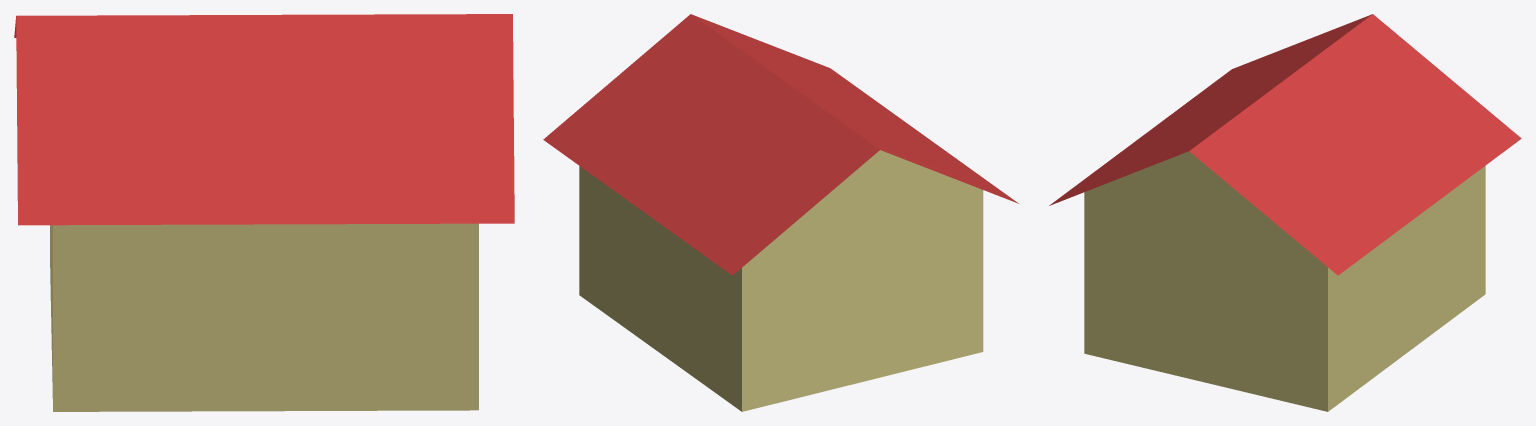
3 views of the same model, side by side, from view 1: azimuth 30°, elevation 25°; view 2: azimuth 150°, elevation 25°; view 3: azimuth 270°, elevation 25° (orthographic). The views are drawn at different scales.
Visible parts, largest first — view 1: group_3, group_5, group_4; view 2: group_5, group_3, group_4; view 3: group_5, group_3, group_4.
Part boxes in pixels (x1,y1,x2,y2): group_3: (14, 14, 514, 225); group_5: (50, 223, 478, 411); group_4: (16, 15, 514, 225); group_5: (579, 150, 983, 411); group_3: (543, 14, 981, 245); group_4: (544, 14, 1018, 275); group_5: (1084, 151, 1485, 411); group_3: (1049, 14, 1484, 275); group_4: (1050, 14, 1521, 274).
Size of the model in its own units: 18.41 by 17.84 by 9.99.
